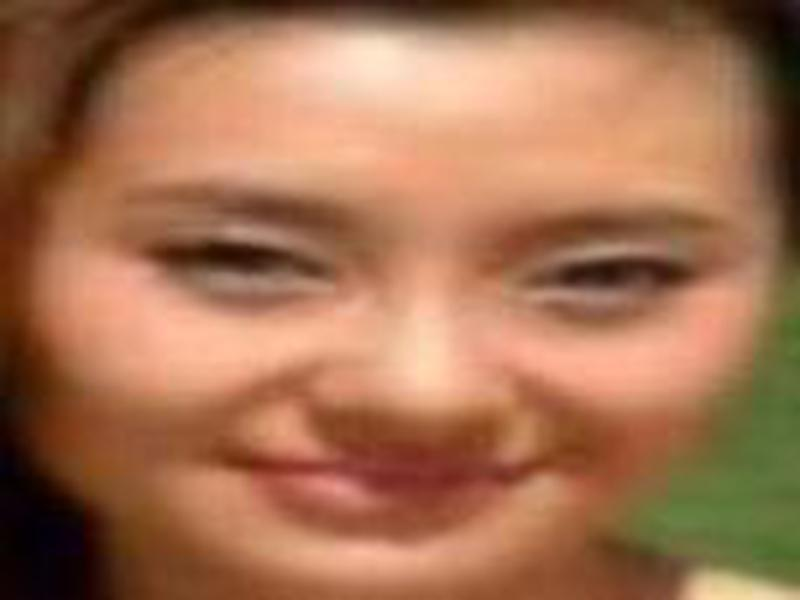without_mask: (29, 67, 772, 593)
